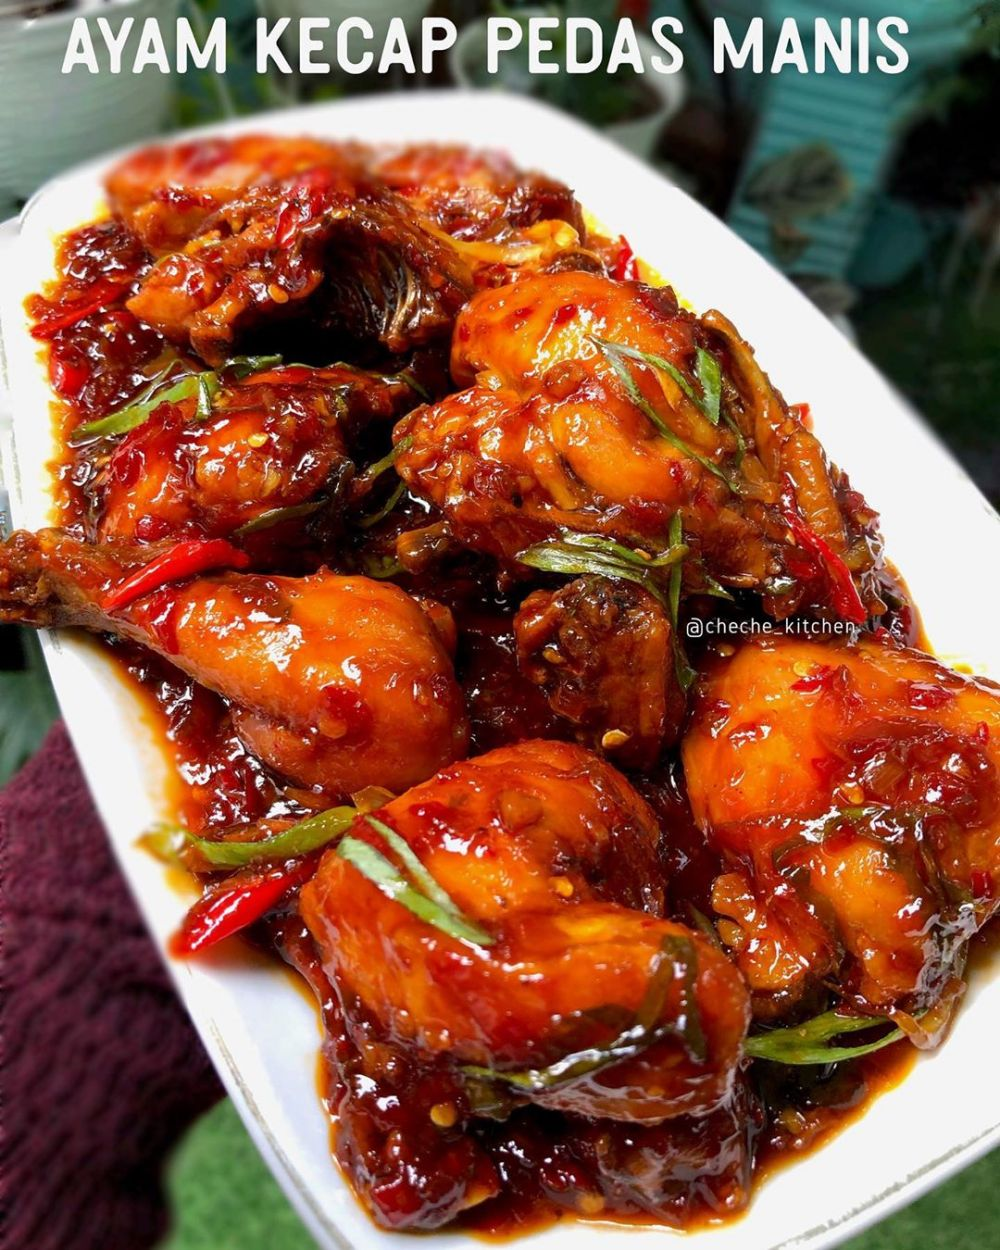Ayam: (329, 732, 691, 1213), (5, 468, 443, 787), (703, 607, 997, 1062), (433, 240, 827, 551)
